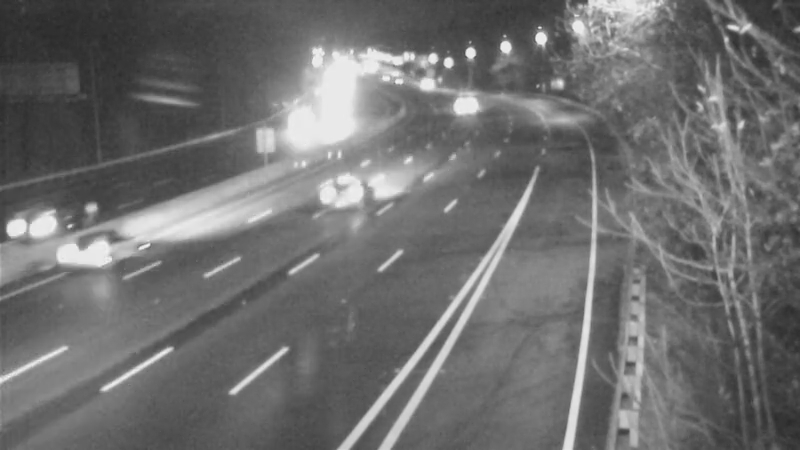vehicle: (315, 149, 395, 229), (48, 213, 128, 293), (1, 182, 80, 262), (436, 83, 486, 133), (274, 109, 324, 159)
